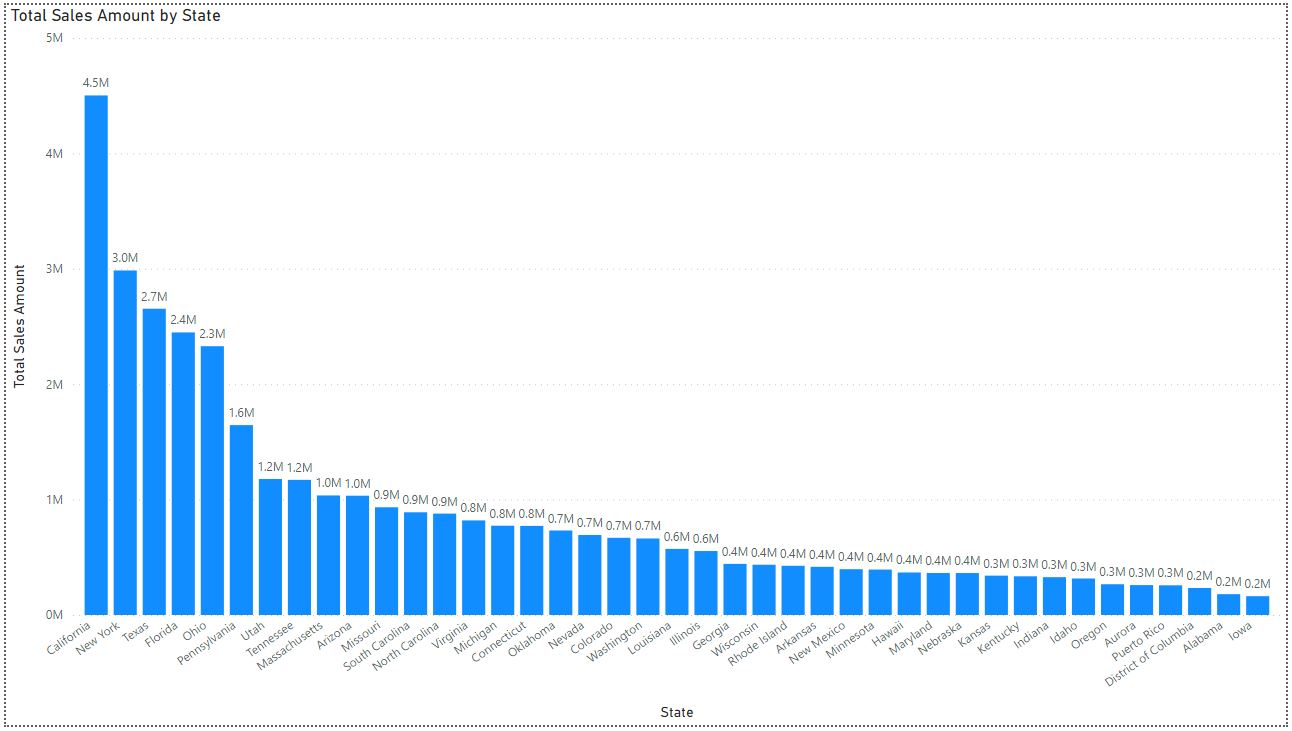

The page's visual inventory and layout, read from the dashboard file:
{"tool":"powerbi","page":{"name":"Total Sales By State","canvas":[1280,720],"ordinal":2},"visuals":[{"type":"columnChart","fields":{"Category":["F_BOSS_SLS_T_AND_D_BOSS_LOCN_T.STT_DESC"],"Y":["Sum(F_BOSS_SLS_T_AND_D_BOSS_LOCN_T.F_BOSS_SLS_T.AMT)"]},"box":[0,0,1280,720],"z":0}]}

Visuals, with their boxes in screenshot pixels (x1, y1, x2, y2), scaled from the page's 1280x720 canvas onto the 1292x731 screenshot:
columnChart - F_BOSS_SLS_T_AND_D_BOSS_LOCN_T.STT_DESC x Sum(F_BOSS_SLS_T_AND_D_BOSS_LOCN_T.F_BOSS_SLS_T.AMT): box=[0, 0, 1291, 730]
